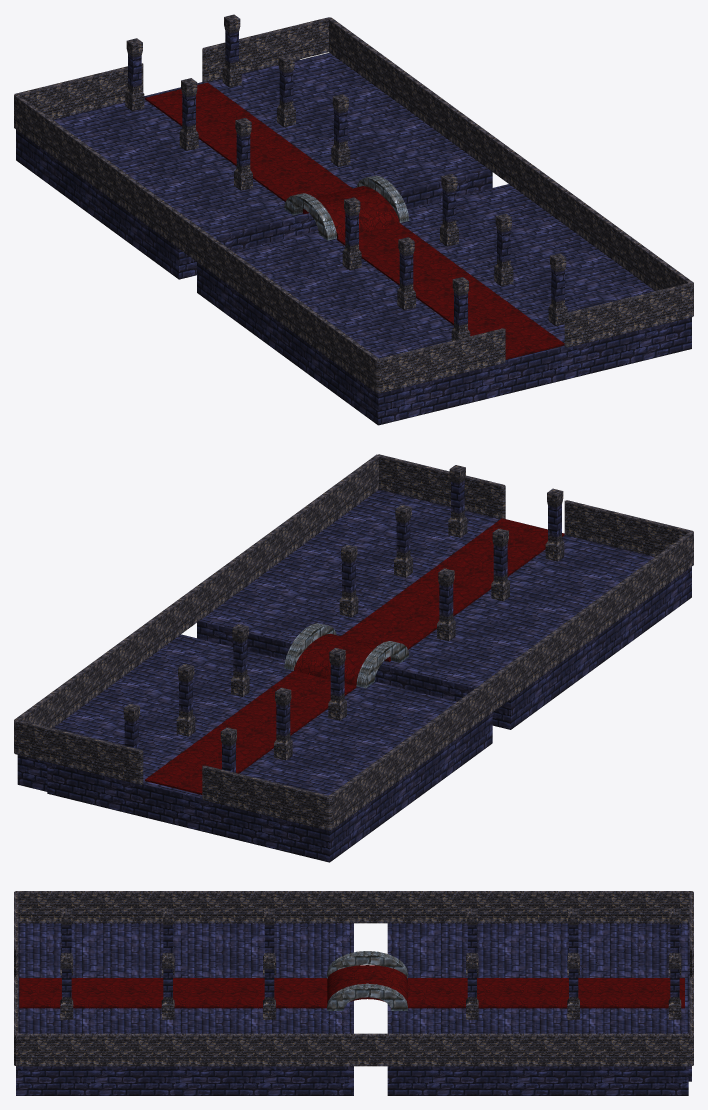
Rendered from room-2doorwater.glb.
3 renders of one model, top to bottom at view 1: azimuth 30°, elevation 25°; view 2: azimuth 150°, elevation 25°; view 3: azimuth 270°, elevation 25°, orthographic. The views are drawn at different scales.
Parts seen in each view (by area): view 1: floor (×4), wall (×53), porch_floorCenter (×4), column (×12), cylinderHollow_half (×3); view 2: floor (×10), wall (×53), porch_floorCenter (×4), column (×12), cylinderHollow_half (×3); view 3: floor (×25), wall (×40), porch_floorCenter (×4), column (×12), cylinderHollow_half (×3).
Part boxes in pixels (left/top/right/bottom): floor (×4): left=16, top=59, right=691, bottom=425; wall (×53): left=14, top=17, right=693, bottom=393; porch_floorCenter (×4): left=145, top=82, right=564, bottom=359; column (×12): left=125, top=14, right=567, bottom=340; cylinderHollow_half (×3): left=284, top=175, right=409, bottom=240; floor (×10): left=17, top=496, right=691, bottom=862; wall (×53): left=14, top=454, right=693, bottom=830; porch_floorCenter (×4): left=145, top=518, right=564, bottom=794; column (×12): left=123, top=465, right=564, bottom=772; cylinderHollow_half (×3): left=284, top=623, right=409, bottom=688; floor (×25): left=16, top=923, right=691, bottom=1095; wall (×40): left=14, top=891, right=693, bottom=1066; porch_floorCenter (×4): left=19, top=978, right=684, bottom=1008; column (×12): left=60, top=909, right=681, bottom=1019; cylinderHollow_half (×3): left=327, top=951, right=407, bottom=1010.
Bounding box in the file's own units: 10.13 × 3 × 20.13.
147 materials, 147 textured.
